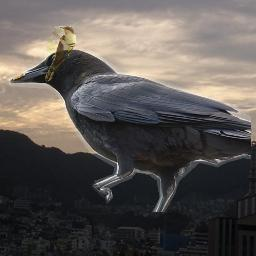Crow: (9, 49, 251, 212)
Cuckoo: (45, 26, 76, 82)
